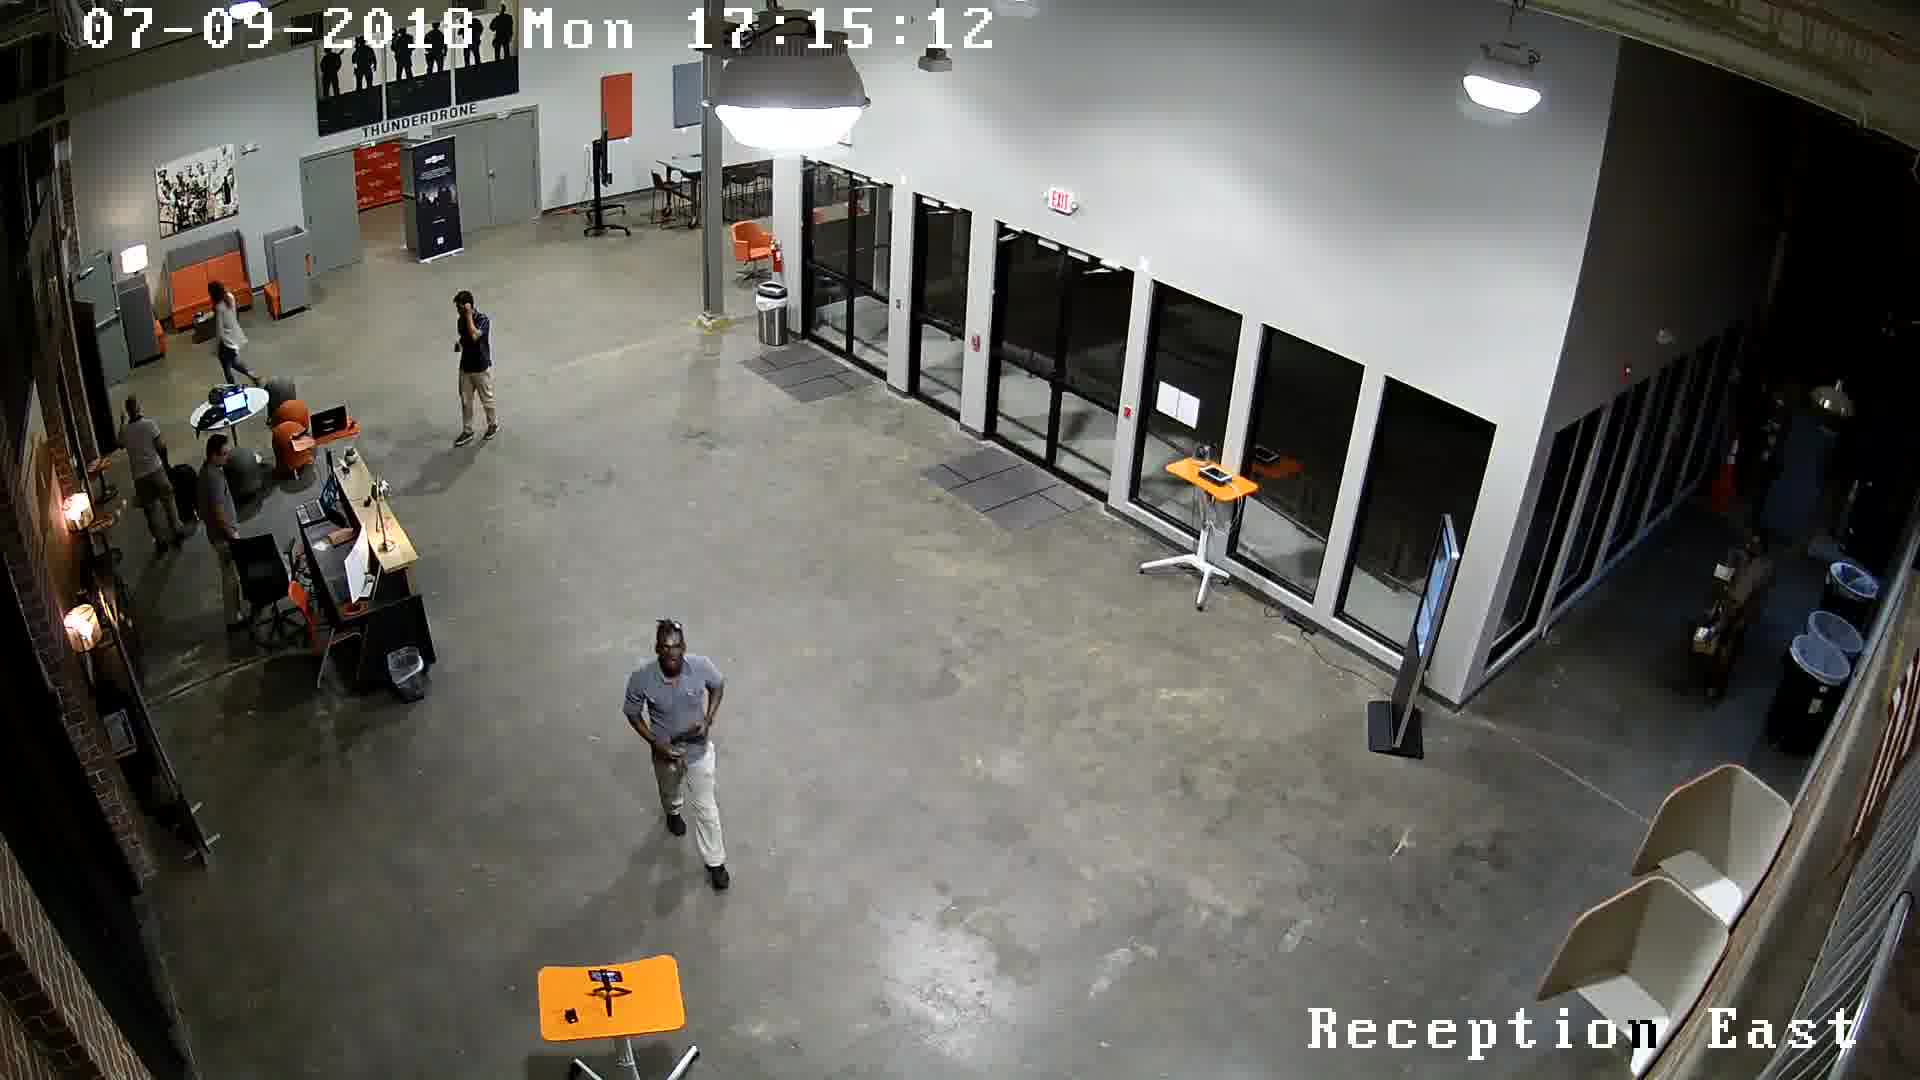pistol: (666, 720, 713, 756)
